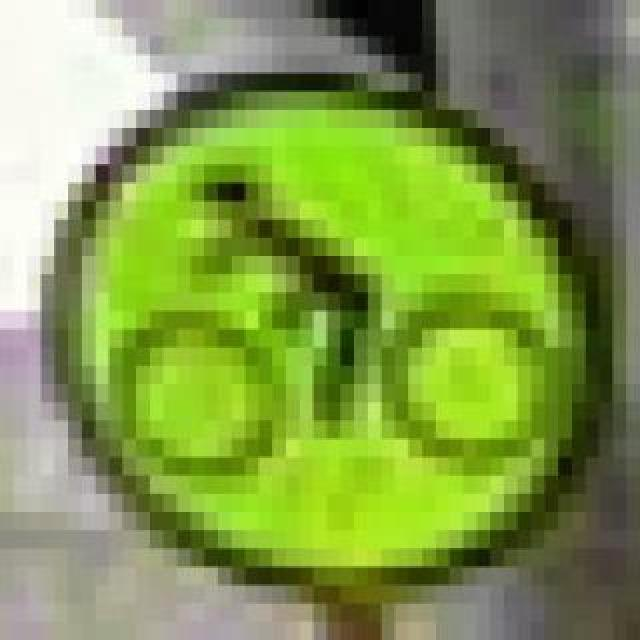bike lane: (26, 56, 586, 568)
